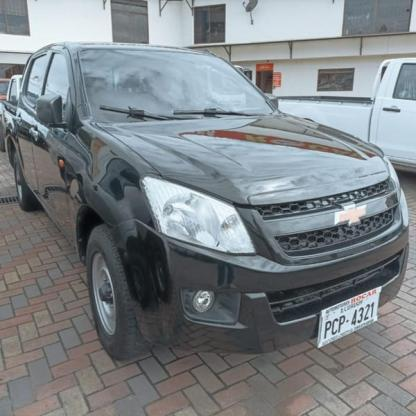Placa: (319, 284, 381, 348)
